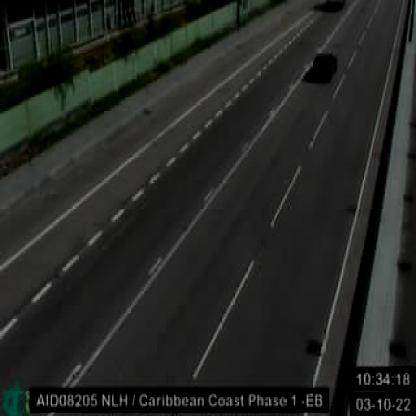Car: (309, 52, 337, 81)
